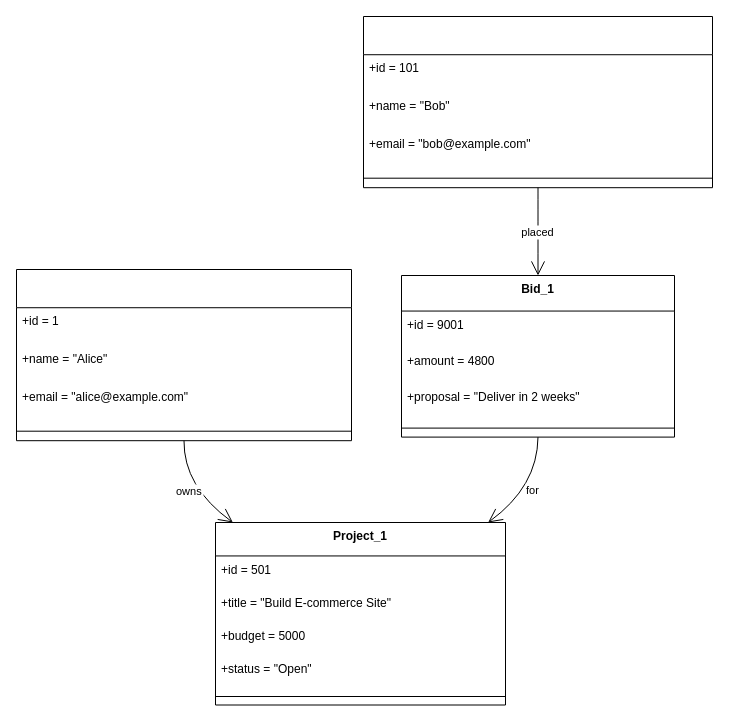
Image size: 729x721. Some labels were removed from this diagram. The box of each missing label's shape, as (x1, y1, x2, y2) in pixels:
Client_1: (16, 268, 352, 441)
Freelancer_1: (362, 16, 712, 188)
